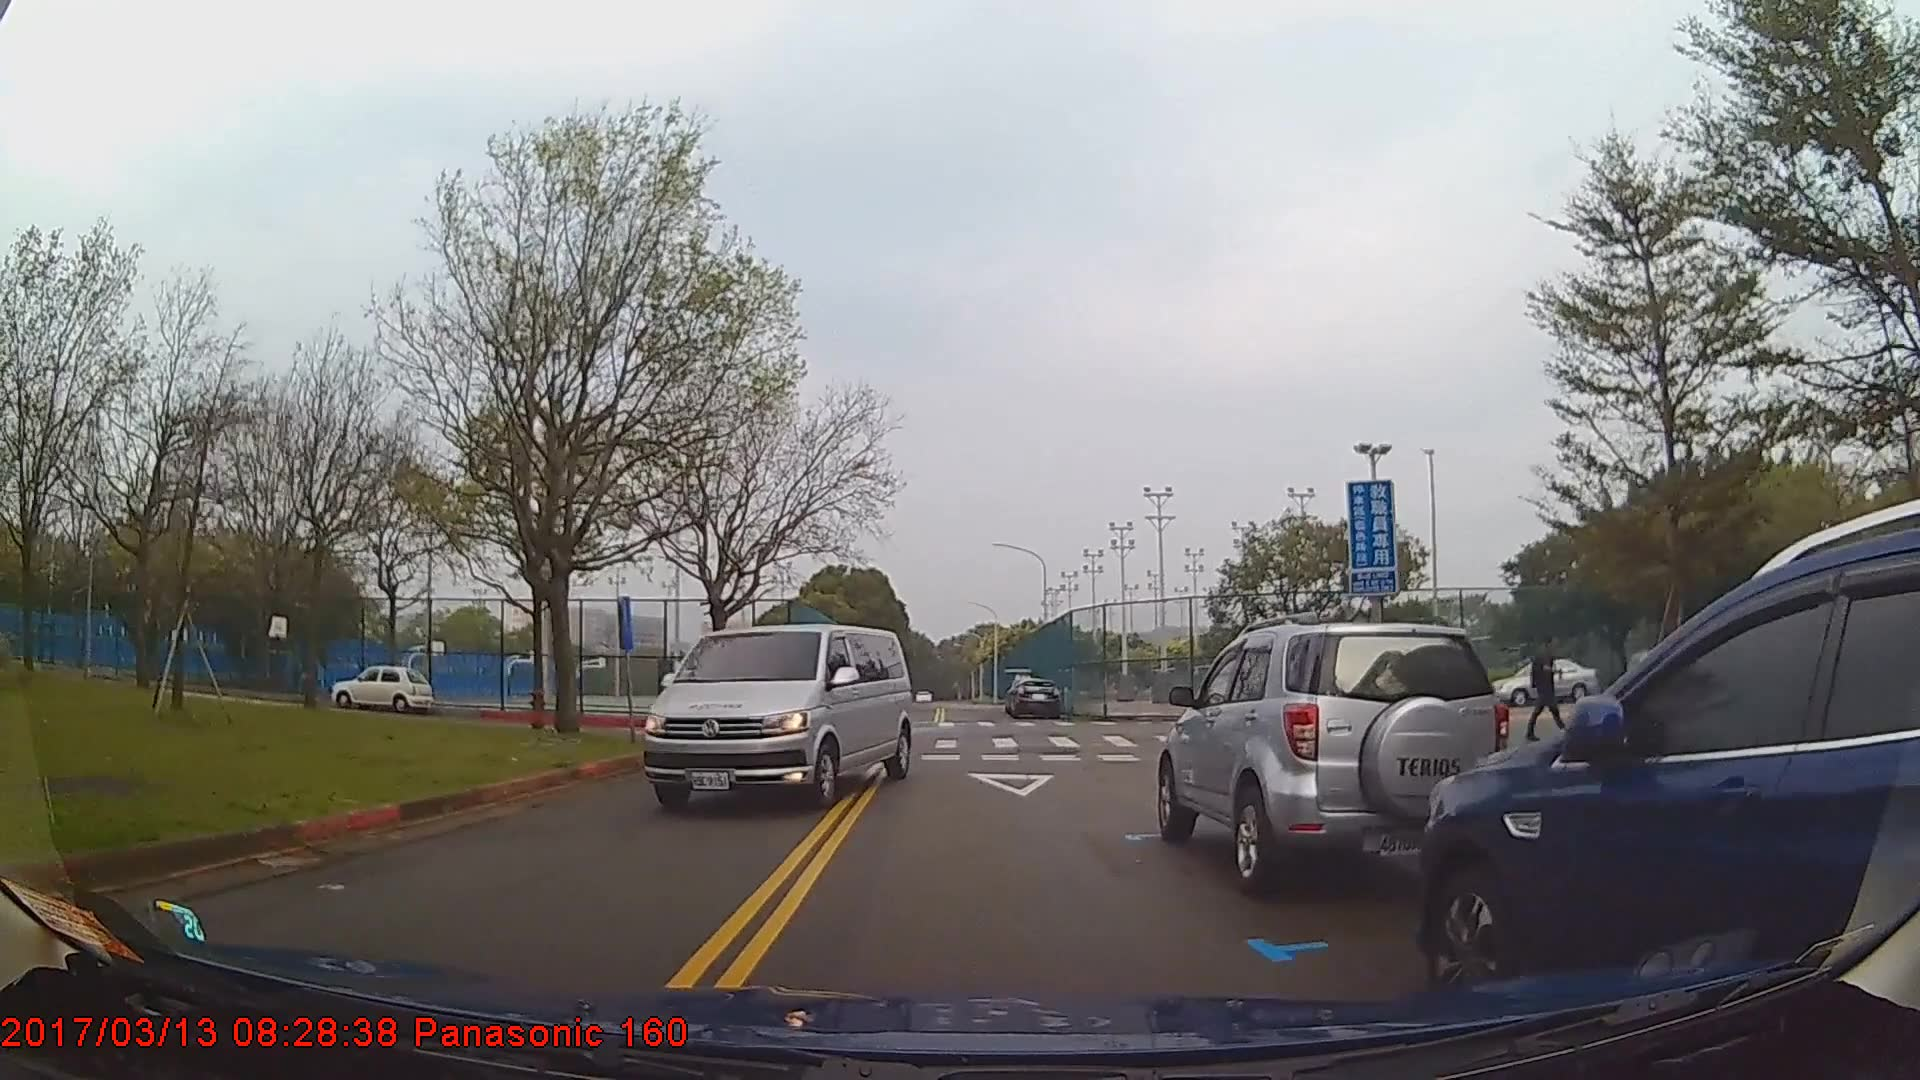pedestrian: (1520, 624, 1576, 745)
vehicle: (1416, 530, 1919, 1014), (1155, 622, 1511, 896), (640, 623, 913, 814), (1488, 657, 1598, 706), (329, 664, 434, 714), (1009, 676, 1062, 719)
